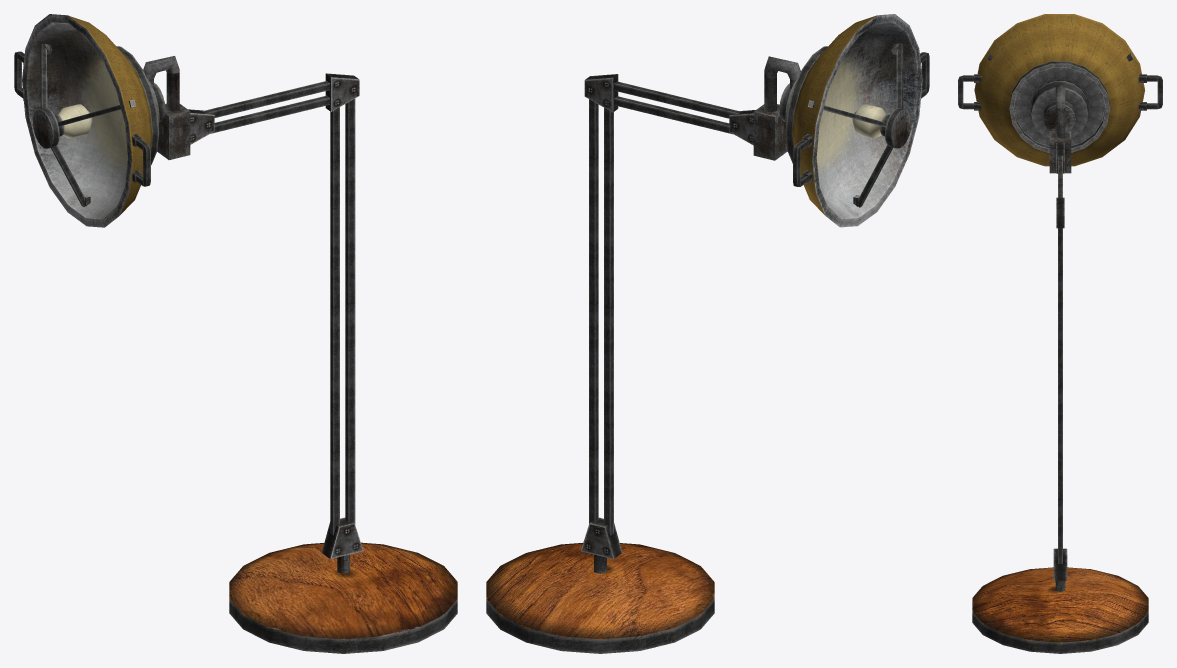
The model's file is medical_lamp.DAE.
3 renders of one model, left to right at view 1: azimuth 30°, elevation 25°; view 2: azimuth 150°, elevation 25°; view 3: azimuth 270°, elevation 25°, orthographic. The views are drawn at different scales.
Visible parts, largest first — view 1: lamp, base, arm01, arm_02, lamp_joint, base_joint; view 2: lamp, base, arm01, arm_02, lamp_joint, base_joint; view 3: lamp, base, arm01, lamp_joint, base_joint, arm_02.
Part boxes in pixels (<box>): lamp: <box>14,14,165,227</box>; base: <box>229,542,457,653</box>; arm01: <box>330,98,355,535</box>; arm_02: <box>202,73,359,133</box>; lamp_joint: <box>143,56,214,159</box>; base_joint: <box>321,517,363,573</box>; lamp: <box>779,14,929,227</box>; base: <box>486,543,714,653</box>; arm01: <box>589,99,613,535</box>; arm_02: <box>584,74,740,134</box>; lamp_joint: <box>729,56,800,160</box>; base_joint: <box>581,517,622,573</box>; lamp: <box>958,14,1162,166</box>; base: <box>972,567,1148,653</box>; arm01: <box>1058,228,1062,563</box>; lamp_joint: <box>1049,85,1071,173</box>; base_joint: <box>1053,548,1067,591</box>; arm_02: <box>1056,156,1064,228</box>.
Bounding box in the file's own units: 1.82 × 1.04 × 2.8.
